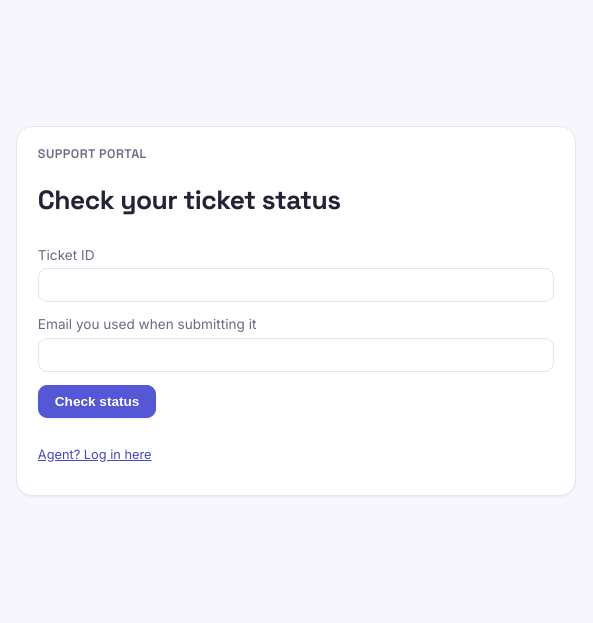
it: PortalPage › shows the matched ticket after a successful lookup
In the field labelled "Ticket ID": (296, 286) [38,268,554,302], type "7"
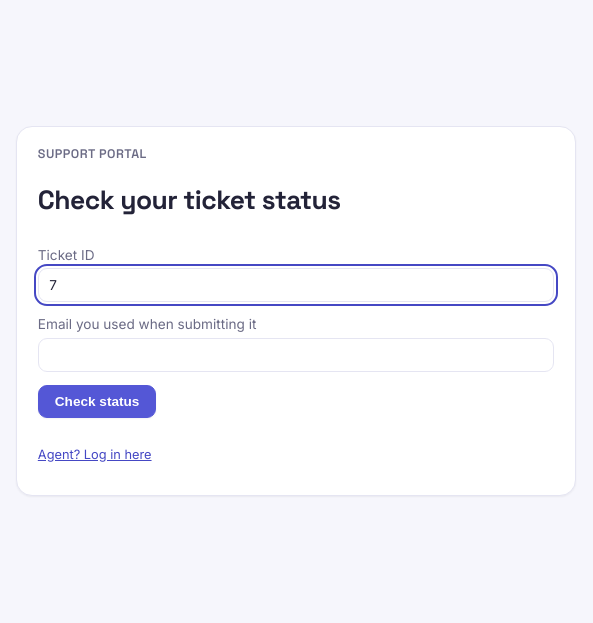
In the field labelled "Email you used when submitting it": (296, 355) [38,338,554,372], type "jane@example.com"
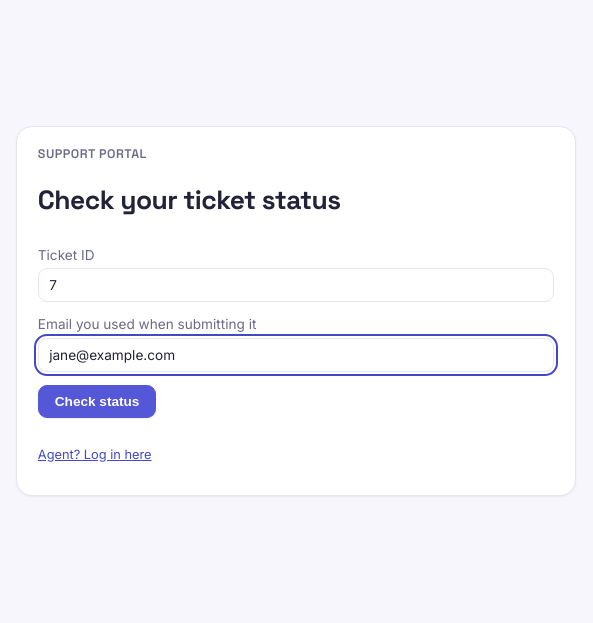
Click the button "Check status": (97, 402) [38,385,156,418]
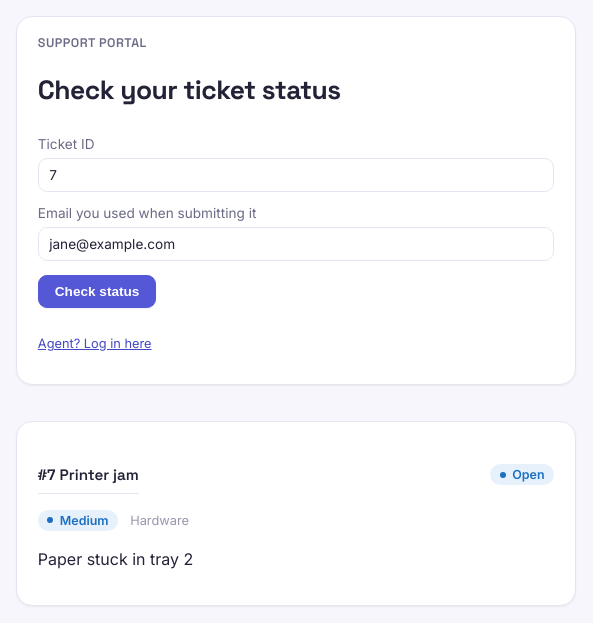
Check: the heading "#7 Printer jam" is shown, box [38,464,139,494]
